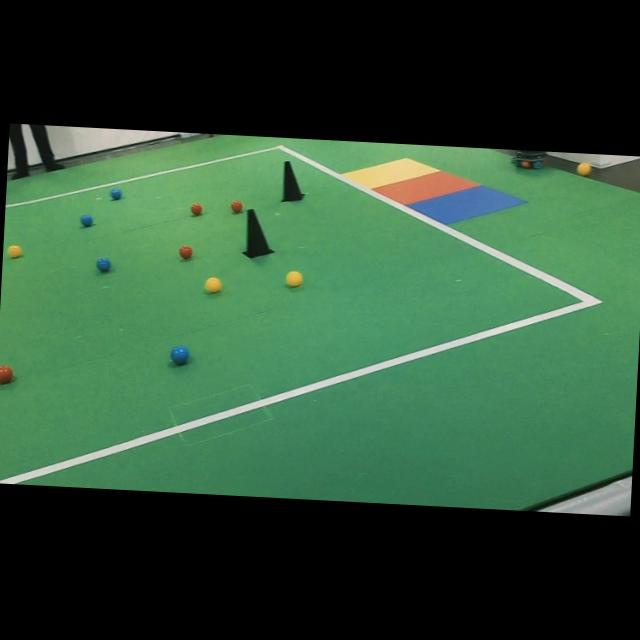ball: (170, 347, 189, 365), (205, 277, 222, 293), (0, 365, 13, 385), (286, 271, 302, 287), (577, 162, 592, 176), (97, 257, 111, 272), (179, 245, 193, 259), (8, 245, 22, 258), (80, 215, 94, 228), (231, 200, 243, 213), (110, 188, 123, 200), (191, 203, 203, 215)
goal: (409, 186, 525, 224), (374, 171, 479, 205), (343, 158, 439, 189)
